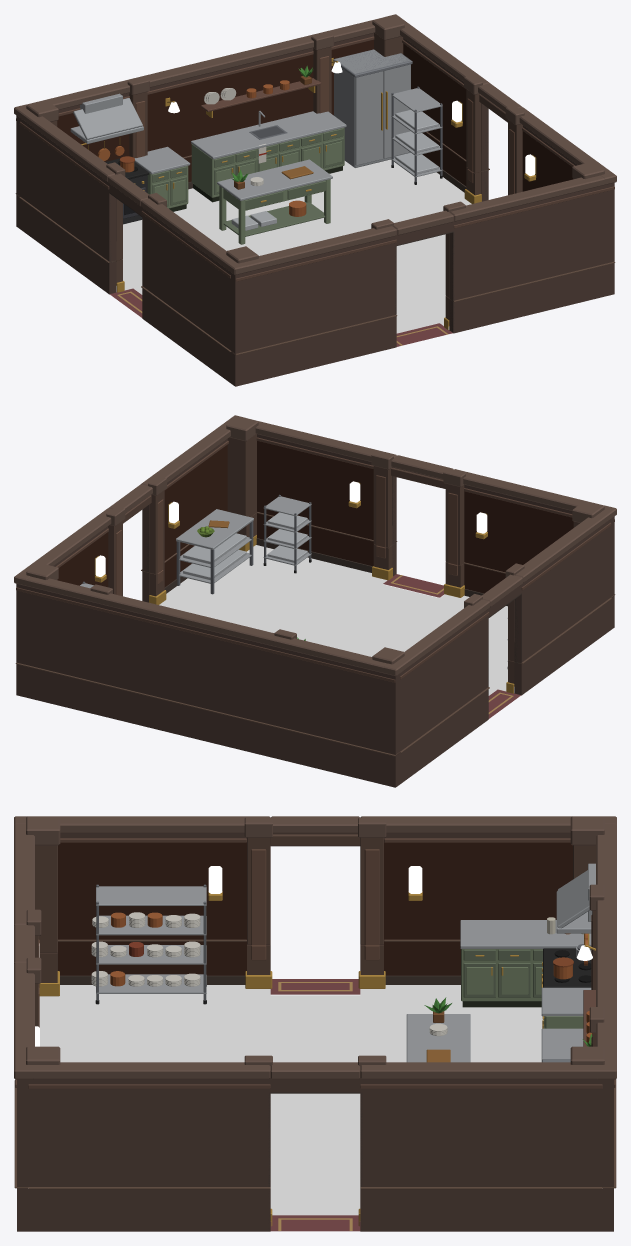
File: kitchen.glb
The picture shows the model from 3 angles, top to bottom: view 1: azimuth 30°, elevation 25°; view 2: azimuth 150°, elevation 25°; view 3: azimuth 270°, elevation 25°; orthographic projection. The views are drawn at different scales.
Parts seen in each view (by area): view 1: static, W_north_0_up, floor, W_south_0_up, W_south_1_up, W_west_0_up, W_west_1_up, W_east_0_up, W_east_1_up; view 2: W_north_0_up, static, floor, W_south_1_up, W_south_0_up, W_west_0_up, W_west_1_up, W_east_1_up, W_east_0_up; view 3: static, floor, W_east_0_up, W_east_1_up, W_west_0_up, W_west_1_up, W_north_0_up, W_south_0_up, W_south_1_up.
Boxes of the visible parts, x1=… form: static: x1=15, y1=49, x2=615, y2=386; W_north_0_up: x1=14, y1=15, x2=404, y2=196; floor: x1=110, y1=159, x2=471, y2=346; W_south_0_up: x1=226, y1=210, x2=453, y2=353; W_south_1_up: x1=443, y1=162, x2=616, y2=300; W_west_0_up: x1=14, y1=104, x2=148, y2=262; W_west_1_up: x1=141, y1=193, x2=246, y2=350; W_east_0_up: x1=385, y1=14, x2=522, y2=173; W_east_1_up: x1=505, y1=105, x2=616, y2=195; W_north_0_up: x1=14, y1=563, x2=404, y2=754; static: x1=15, y1=494, x2=615, y2=787; floor: x1=159, y1=545, x2=520, y2=718; W_south_1_up: x1=226, y1=416, x2=396, y2=547; W_south_0_up: x1=391, y1=455, x2=616, y2=597; W_west_0_up: x1=384, y1=574, x2=522, y2=751; W_west_1_up: x1=505, y1=505, x2=616, y2=662; W_east_1_up: x1=141, y1=415, x2=245, y2=574; W_east_0_up: x1=14, y1=484, x2=152, y2=596; static: x1=14, y1=884, x2=616, y2=1231; floor: x1=39, y1=979, x2=543, y2=1231; W_east_0_up: x1=270, y1=1055, x2=616, y2=1186; W_east_1_up: x1=14, y1=1055, x2=272, y2=1186; W_west_0_up: x1=270, y1=816, x2=616, y2=945; W_west_1_up: x1=14, y1=816, x2=272, y2=945; W_north_0_up: x1=556, y1=816, x2=616, y2=1186; W_south_0_up: x1=14, y1=816, x2=60, y2=987; W_south_1_up: x1=14, y1=957, x2=60, y2=1186.
Bounding box in the file's own units: 8.08 × 2.48 × 8.08.
